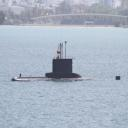submarine: (14, 38, 123, 84)
